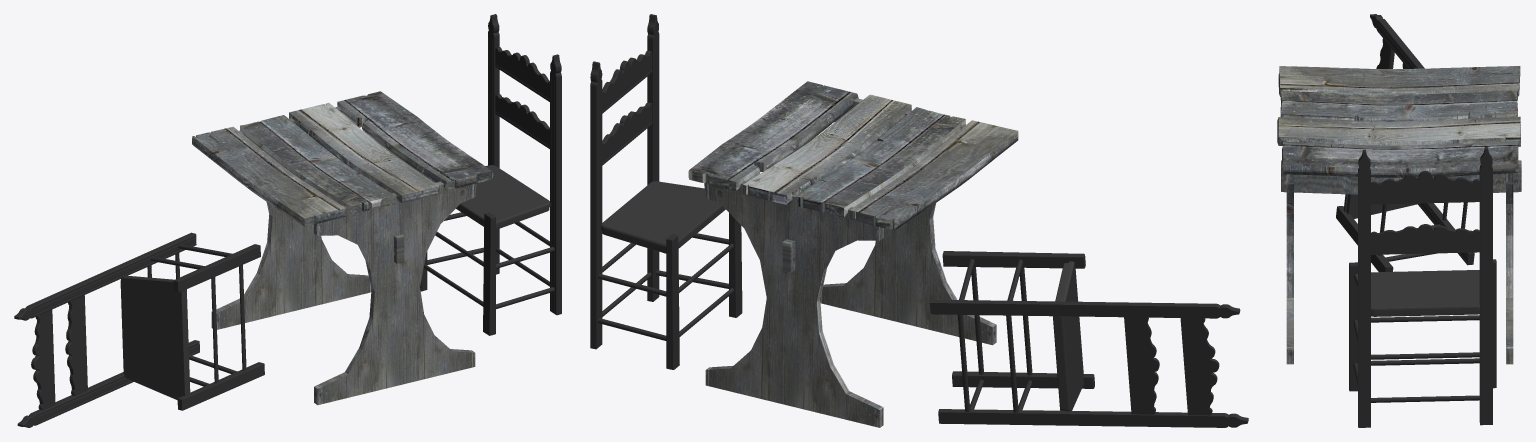
File: table.obj
The picture shows the model from 3 angles, left to right: view 1: azimuth 30°, elevation 25°; view 2: azimuth 150°, elevation 25°; view 3: azimuth 270°, elevation 25°; orthographic projection. The views are drawn at different scales.
Visible parts, largest first — view 1: obj1, obj0, Mesh.001_Mesh_cadeira2.001, Mesh_Mesh_cadeira2; view 2: obj1, obj0, Mesh.001_Mesh_cadeira2.001, Mesh_Mesh_cadeira2; view 3: obj0, Mesh_Mesh_cadeira2, obj1, Mesh.001_Mesh_cadeira2.001.
Boxes of the visible parts, <box> form: obj1: <box>211,106,476,405</box>; obj0: <box>192,91,493,226</box>; Mesh.001_Mesh_cadeira2.001: <box>14,232,264,427</box>; Mesh_Mesh_cadeira2: <box>420,14,561,335</box>; obj1: <box>704,98,996,427</box>; obj0: <box>688,81,1018,230</box>; Mesh.001_Mesh_cadeira2.001: <box>929,251,1248,427</box>; Mesh_Mesh_cadeira2: <box>590,14,742,369</box>; obj0: <box>1277,66,1520,177</box>; Mesh_Mesh_cadeira2: <box>1349,146,1496,427</box>; obj1: <box>1281,117,1521,364</box>; Mesh.001_Mesh_cadeira2.001: <box>1336,14,1474,271</box>.
Size of the model in its own units: 2.95 by 1.35 by 1.08.
11 materials, 3 textured.
